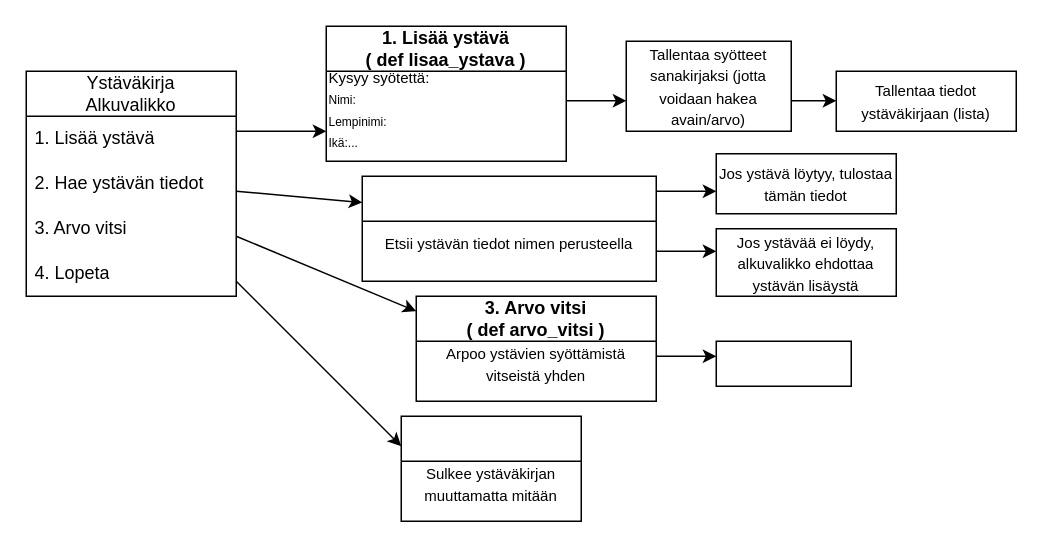
The diagram is 1043 pixels wide and 548 high, and some of its shapes have lost their labels. The box of each missing label's shape, as (x1, y1, x2, y2) in pixels:
2. Etsi ystävän tiedot ( def etsi_ystava ): (361, 175, 656, 281)
4. Lopeta (break): (400, 415, 581, 521)
Palauttaa vitsin: (715, 340, 851, 386)
